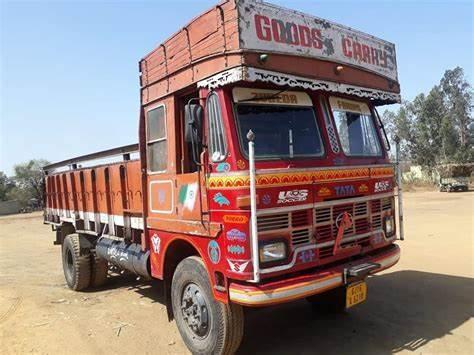truck: (31, 34, 406, 326)
